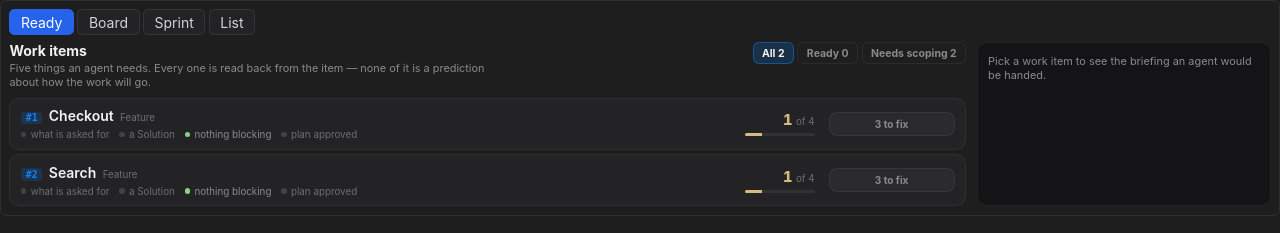
Test case: WorkItemViews › switches to List view and shows a row per item
Click the tab "List". click: x=232, y=22
box: x1=209 y1=9 x2=255 y2=35
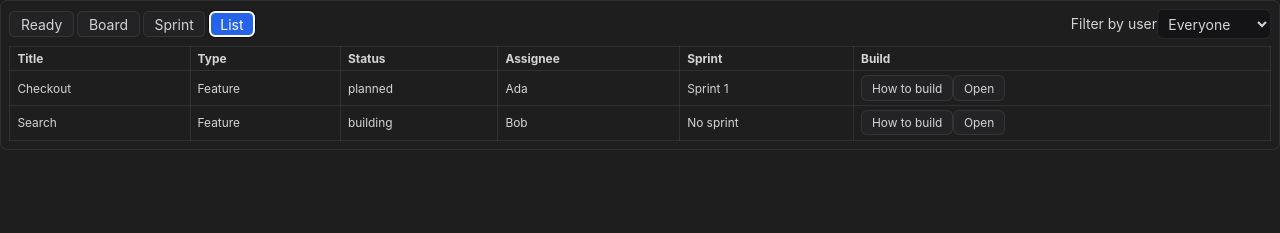
Check: the row "Checkout" shows "Ada", box x1=505 y1=80 x2=528 y2=96
Check: the row "Search" shows "Bob", box x1=505 y1=115 x2=528 y2=130
